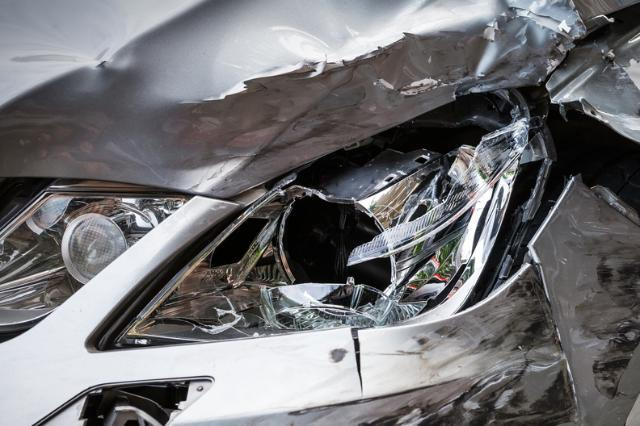Bonnet: (0, 0, 637, 192)
Fender: (539, 0, 640, 217)
Light: (82, 94, 570, 336)
